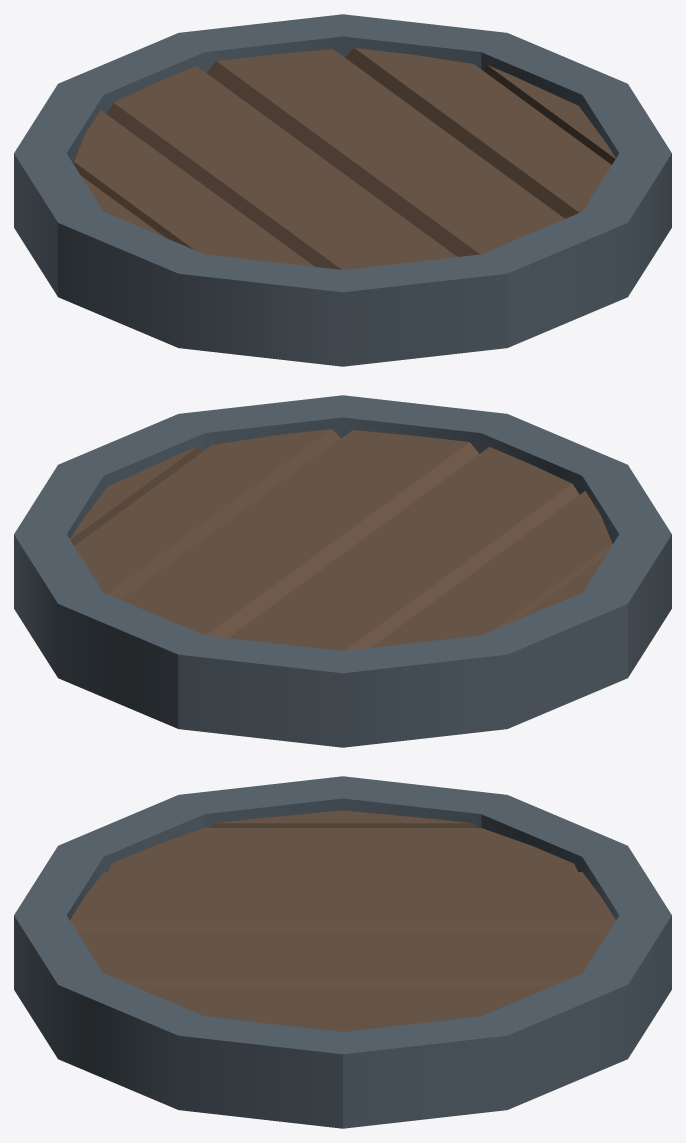
The model's file is OrcShield.fbx.
3 views of the same model, one above another, from view 1: azimuth 30°, elevation 25°; view 2: azimuth 150°, elevation 25°; view 3: azimuth 270°, elevation 25° (orthographic).
Parts seen in each view (by area): view 1: Cylinder; view 2: Cylinder; view 3: Cylinder.
Part boxes in pixels (x1=…): Cylinder: x1=14, y1=14, x2=671, y2=366; Cylinder: x1=14, y1=395, x2=671, y2=747; Cylinder: x1=14, y1=776, x2=671, y2=1128.
Bounding box in the file's own units: 357 × 85.35 × 357.
